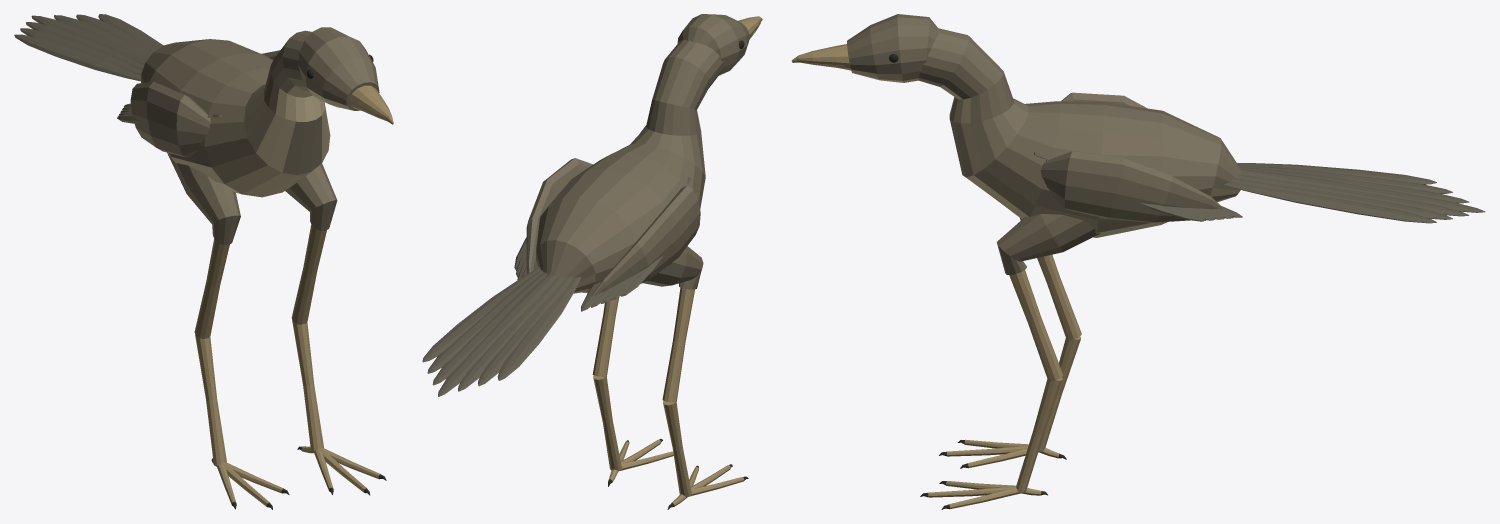
3 views of the same model, side by side, from view 1: azimuth 30°, elevation 25°; view 2: azimuth 150°, elevation 25°; view 3: azimuth 270°, elevation 25° (orthographic). The views are drawn at different scales.
Visible parts, largest first — view 1: trunk-and-curved-neck, broad-long-feather-tail, small-rounded-head, left-wing-coverts, left-feathered-thigh, right-feathered-thigh, right-tarsometatarsal-leg, left-tarsometatarsal-leg, left-tibiotarsal-leg, right-tibiotarsal-leg, right-three-forward-toes-and-hallux, left-three-forward-toes-and-hallux (+1 smaller); view 2: trunk-and-curved-neck, broad-long-feather-tail, left-wing-coverts, small-rounded-head, right-wing-coverts, left-tibiotarsal-leg, left-feathered-thigh, left-tarsometatarsal-leg, right-tarsometatarsal-leg, right-tibiotarsal-leg, left-folded-wing-remiges, left-three-forward-toes-and-hallux (+1 smaller); view 3: trunk-and-curved-neck, broad-long-feather-tail, right-wing-coverts, small-rounded-head, right-feathered-thigh, right-tibiotarsal-leg, right-tarsometatarsal-leg, right-three-forward-toes-and-hallux, left-tibiotarsal-leg, left-three-forward-toes-and-hallux, right-folded-wing-remiges, left-tarsometatarsal-leg (+1 smaller).
Part boxes in pixels (x1=…): trunk-and-curved-neck: x1=141, y1=30, x2=330, y2=197; broad-long-feather-tail: x1=14, y1=14, x2=163, y2=81; small-rounded-head: x1=298, y1=27, x2=379, y2=110; left-wing-coverts: x1=130, y1=81, x2=210, y2=157; left-feathered-thigh: x1=167, y1=152, x2=240, y2=244; right-feathered-thigh: x1=285, y1=163, x2=337, y2=230; right-tarsometatarsal-leg: x1=292, y1=320, x2=323, y2=451; left-tarsometatarsal-leg: x1=195, y1=335, x2=226, y2=465; left-tibiotarsal-leg: x1=194, y1=239, x2=229, y2=338; right-tibiotarsal-leg: x1=291, y1=225, x2=326, y2=324; right-three-forward-toes-and-hallux: x1=301, y1=446, x2=380, y2=493; left-three-forward-toes-and-hallux: x1=212, y1=459, x2=283, y2=507; trunk-and-curved-neck: x1=536, y1=40, x2=723, y2=293; broad-long-feather-tail: x1=422, y1=267, x2=581, y2=396; left-wing-coverts: x1=591, y1=185, x2=700, y2=296; small-rounded-head: x1=677, y1=14, x2=749, y2=75; right-wing-coverts: x1=526, y1=158, x2=592, y2=273; left-tibiotarsal-leg: x1=662, y1=287, x2=694, y2=402; left-feathered-thigh: x1=642, y1=246, x2=703, y2=289; left-tarsometatarsal-leg: x1=663, y1=400, x2=691, y2=497; right-tarsometatarsal-leg: x1=593, y1=375, x2=621, y2=471; right-tibiotarsal-leg: x1=592, y1=297, x2=619, y2=376; left-folded-wing-remiges: x1=581, y1=177, x2=691, y2=311; left-three-forward-toes-and-hallux: x1=671, y1=465, x2=743, y2=506; trunk-and-curved-neck: x1=918, y1=28, x2=1241, y2=237; broad-long-feather-tail: x1=1224, y1=163, x2=1485, y2=223; right-wing-coverts: x1=1040, y1=151, x2=1223, y2=222; small-rounded-head: x1=847, y1=14, x2=939, y2=82; right-feathered-thigh: x1=996, y1=214, x2=1100, y2=275; right-tibiotarsal-leg: x1=1009, y1=270, x2=1062, y2=381; right-tarsometatarsal-leg: x1=1016, y1=377, x2=1062, y2=492; right-three-forward-toes-and-hallux: x1=928, y1=481, x2=1041, y2=509; left-tibiotarsal-leg: x1=1037, y1=254, x2=1081, y2=340; left-three-forward-toes-and-hallux: x1=946, y1=439, x2=1059, y2=468; right-folded-wing-remiges: x1=1034, y1=152, x2=1242, y2=221; left-tarsometatarsal-leg: x1=1039, y1=336, x2=1080, y2=451.
Size of the model in its own units: 0.074 by 0.2198 by 0.3003.
